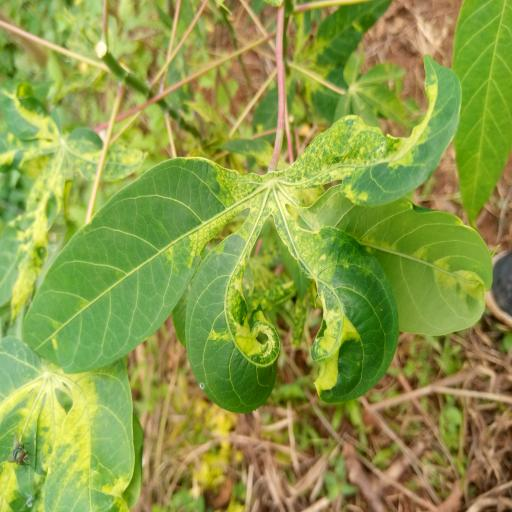Cassava_Mosaic: (20, 60, 494, 414)
